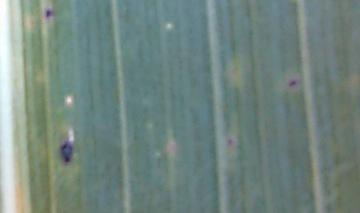tarspot: (58, 139, 74, 164), (287, 78, 298, 89), (44, 8, 53, 19), (226, 137, 234, 147)
